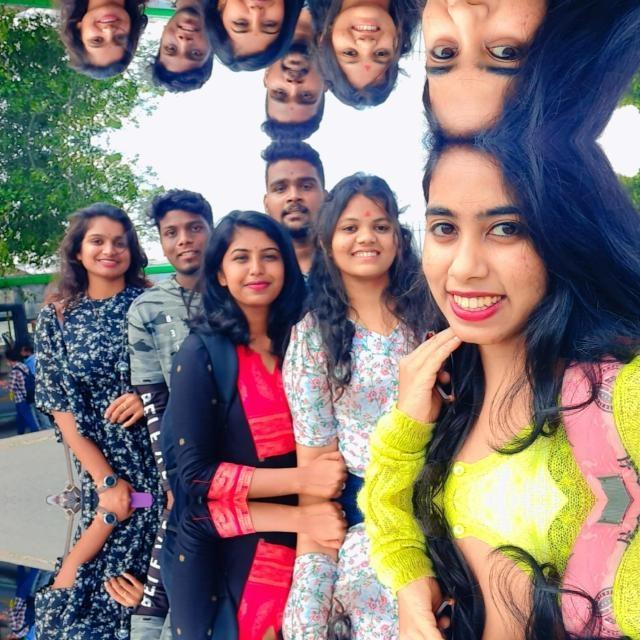person: (422, 140, 636, 500), (318, 179, 428, 499), (422, 499, 636, 640), (422, 0, 636, 139), (202, 222, 306, 500), (49, 202, 147, 470), (318, 500, 427, 640), (202, 499, 306, 640), (318, 0, 427, 101), (148, 190, 205, 382), (49, 529, 147, 640), (258, 140, 329, 254), (258, 26, 329, 140), (49, 0, 147, 78), (202, 0, 306, 57), (147, 0, 204, 89), (147, 617, 204, 640)
